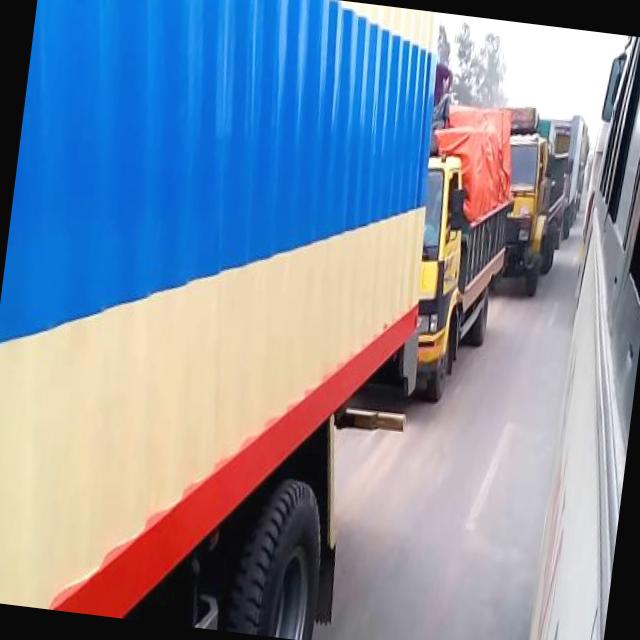bus: (527, 34, 640, 640)
truck: (0, 0, 457, 639), (403, 93, 523, 404), (482, 99, 576, 294)
